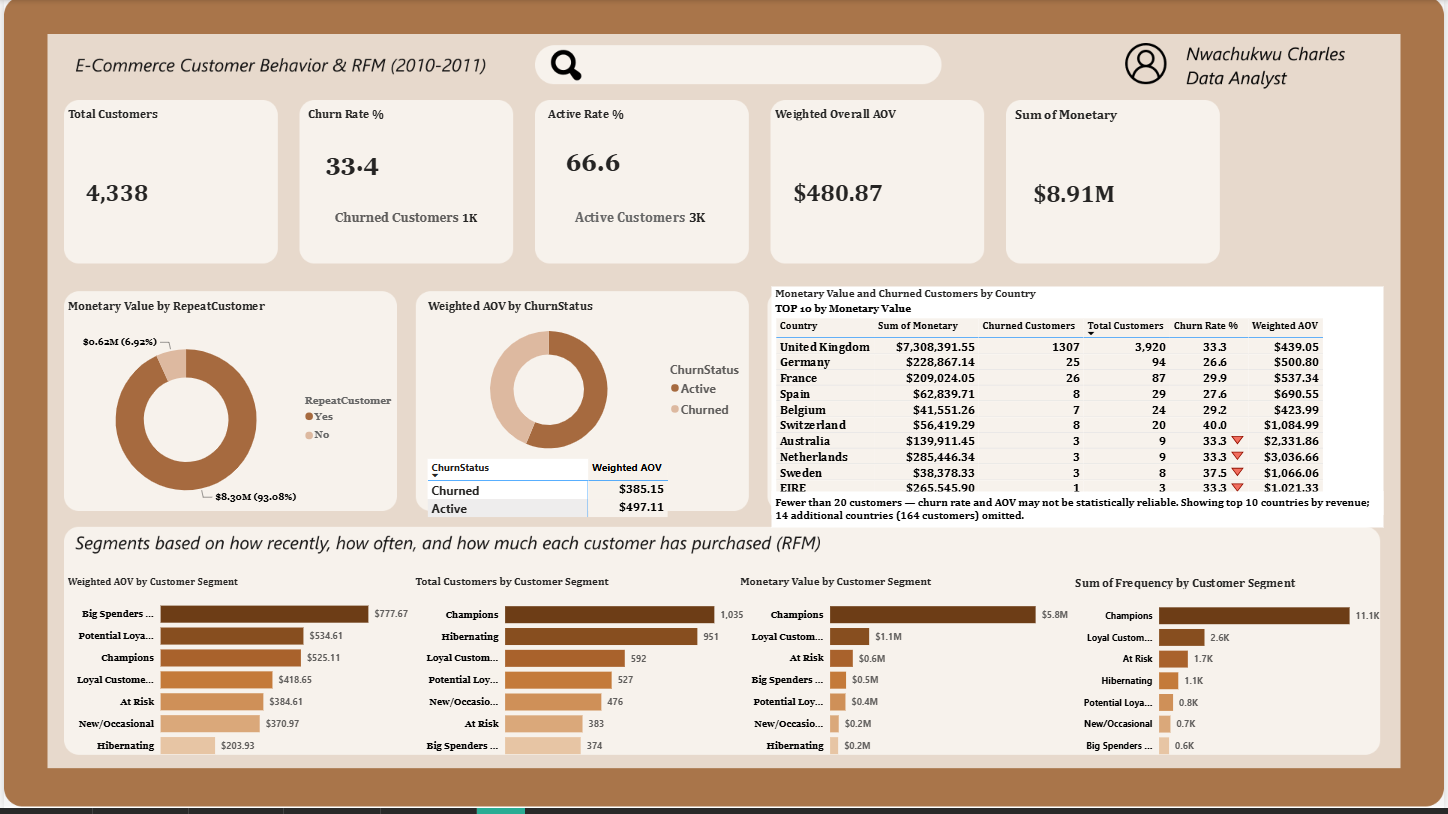

The page's visual inventory and layout, read from the dashboard file:
{"tool":"powerbi","page":{"name":"Page 1","canvas":[1280,720],"ordinal":0},"visuals":[{"type":"cardVisual","title":"Churn Rate %","fields":{"Data":["Customer Behavior (2).Churn Rate %"]},"box":[224,0,240,176],"z":0},{"type":"cardVisual","title":"Active Rate %","fields":{"Data":["Customer Behavior (2).Active Rate %"]},"box":[480,0,224,176],"z":1000},{"type":"cardVisual","title":"Total Customers","fields":{"Data":["Customer Behavior (2).Total Customers"]},"box":[0,0,208,176],"z":2000},{"type":"cardVisual","title":"Weighted Overall AOV","fields":{"Data":["Customer Behavior (2).Weighted AOV"]},"box":[720,0,208,176],"z":3000},{"type":"cardVisual","title":"Sum of Monetary","fields":{"Data":["Sum(Customer Behavior (2).Monetary)"]},"box":[944,0,224,176],"z":4000},{"type":"donutChart","fields":{"Category":["Customer Behavior (2).ChurnStatus"],"Y":["Customer Behavior (2).Weighted AOV"]},"box":[320,208,256,224],"z":5000},{"type":"pivotTable","fields":{"Rows":["Customer Behavior (2).ChurnStatus"],"Values":["Customer Behavior (2).Weighted AOV"]},"box":[336,400,240,96],"z":6000},{"type":"tableEx","title":"Monetary Value and Churned Customers by Country","fields":{"Values":["Customer Behavior (2).Country","Sum(Customer Behavior (2).Monetary)","Customer Behavior (2).Churned Customers","Customer Behavior (2).Total Customers","Customer Behavior (2).Churn Rate %","Customer Behavior (2).Weighted AOV"]},"box":[624,176,656,272],"z":7000},{"type":"donutChart","title":"Monetary Value by RepeatCustomer","fields":{"Category":["Customer Behavior (2).RepeatCustomer"],"Y":["Sum(Customer Behavior (2).Monetary)"]},"box":[0,208,288,256],"z":8000},{"type":"clusteredBarChart","fields":{"Category":["Customer Behavior (2).Segment"],"Y":["Customer Behavior (2).Total Customers"]},"box":[416,496,400,224],"z":9000},{"type":"clusteredBarChart","title":" Monetary Value by Customer Segment","fields":{"Category":["Customer Behavior (2).Segment"],"Y":["Sum(Customer Behavior (2).Monetary)"]},"box":[864,496,400,224],"z":10000},{"type":"barChart","fields":{"Category":["Customer Behavior (2).Customer Segment"],"Y":["Customer Behavior (2).Weighted AOV"]},"box":[0,496,400,224],"z":11000},{"type":"textbox","box":[624,448,656,48],"z":12000}]}

Visuals, with their boxes in screenshot pixels (x1, y1, x2, y2), scaled from the page's 1280x720 canvas onto the 1448x814 screenshot:
"Churn Rate %" cardVisual: bbox(253, 0, 525, 199)
"Active Rate %" cardVisual: bbox(543, 0, 796, 199)
"Total Customers" cardVisual: bbox(0, 0, 235, 199)
"Weighted Overall AOV" cardVisual: bbox(815, 0, 1050, 199)
"Sum of Monetary" cardVisual: bbox(1068, 0, 1321, 199)
donutChart - Customer Behavior (2).ChurnStatus x Customer Behavior (2).Weighted AOV: bbox(362, 235, 652, 488)
pivotTable - Customer Behavior (2).ChurnStatus x Customer Behavior (2).Weighted AOV: bbox(380, 452, 652, 561)
"Monetary Value and Churned Customers by Country" tableEx: bbox(706, 199, 1447, 506)
"Monetary Value by RepeatCustomer" donutChart: bbox(0, 235, 326, 525)
clusteredBarChart - Customer Behavior (2).Segment x Customer Behavior (2).Total Customers: bbox(471, 561, 923, 813)
" Monetary Value by Customer Segment" clusteredBarChart: bbox(977, 561, 1430, 813)
barChart - Customer Behavior (2).Customer Segment x Customer Behavior (2).Weighted AOV: bbox(0, 561, 453, 813)
textbox: bbox(706, 506, 1447, 561)
